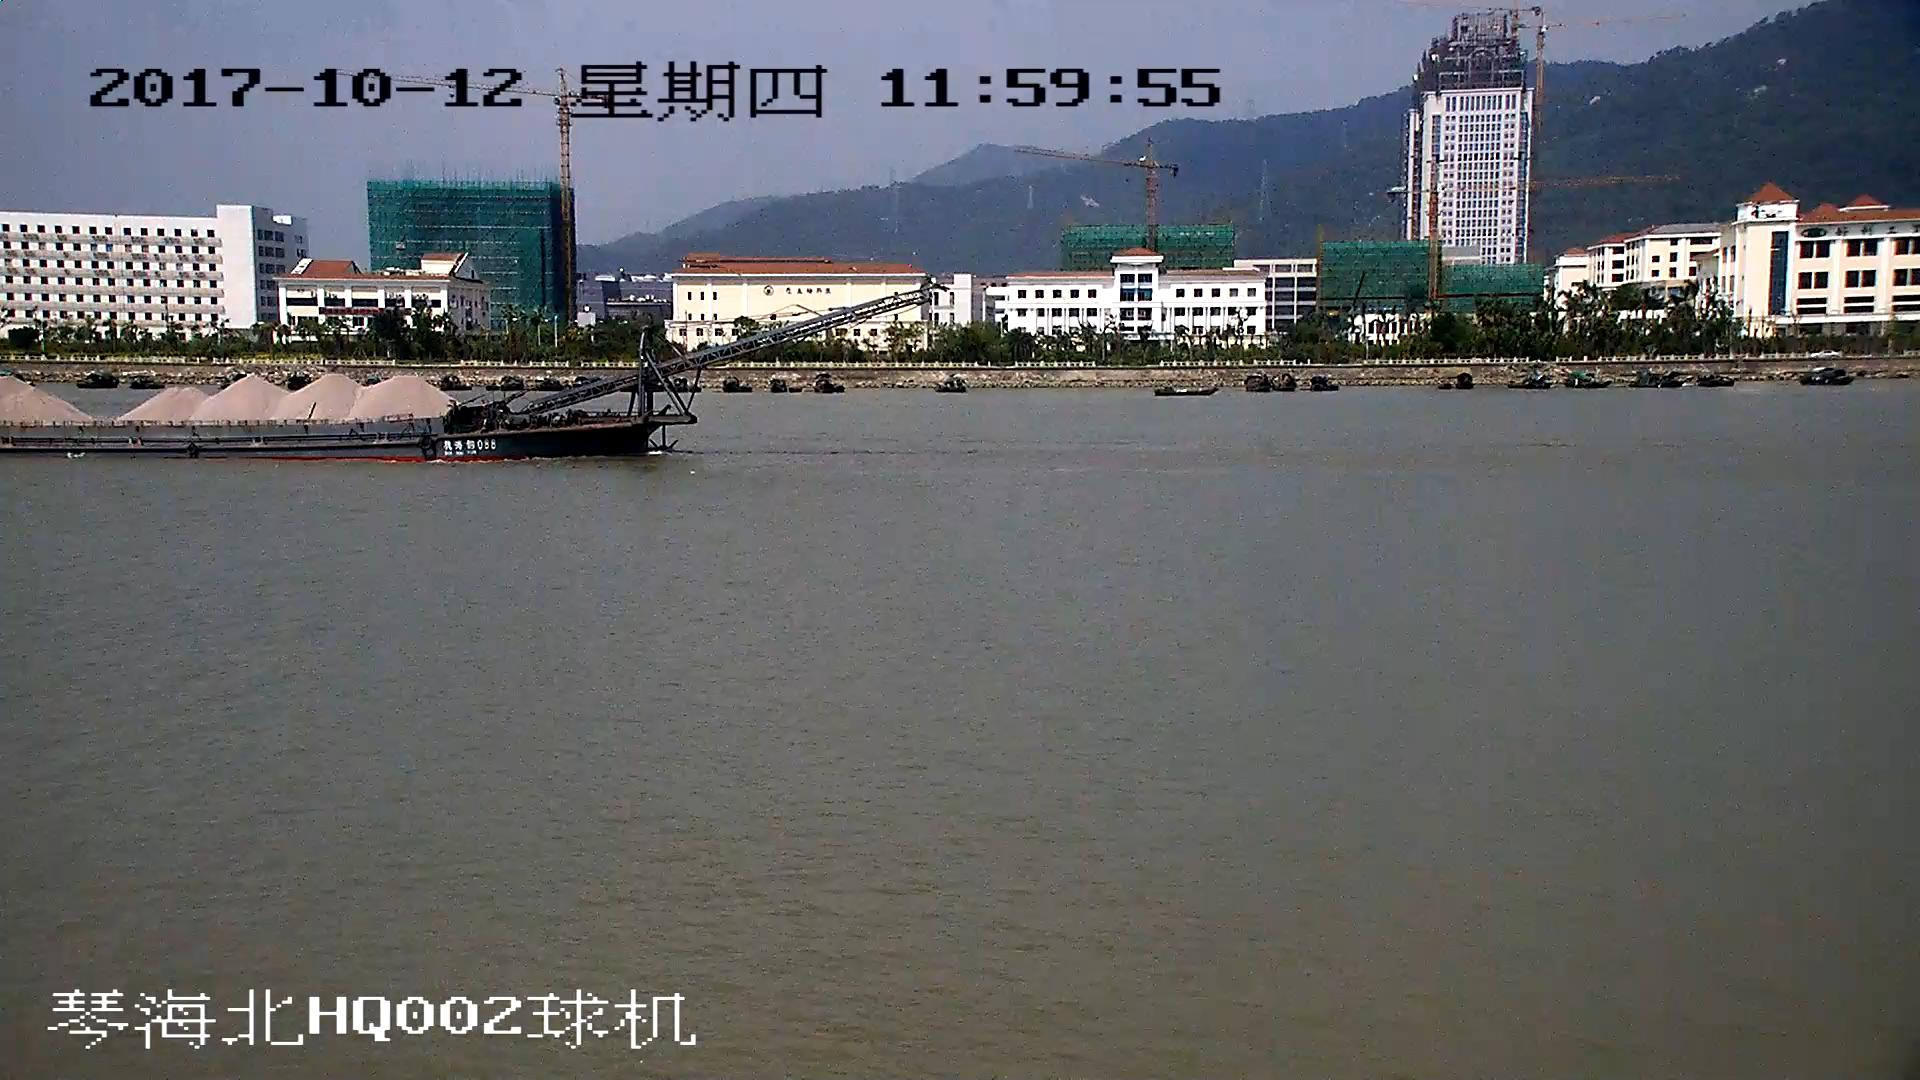ore carrier: (1, 285, 932, 459)
